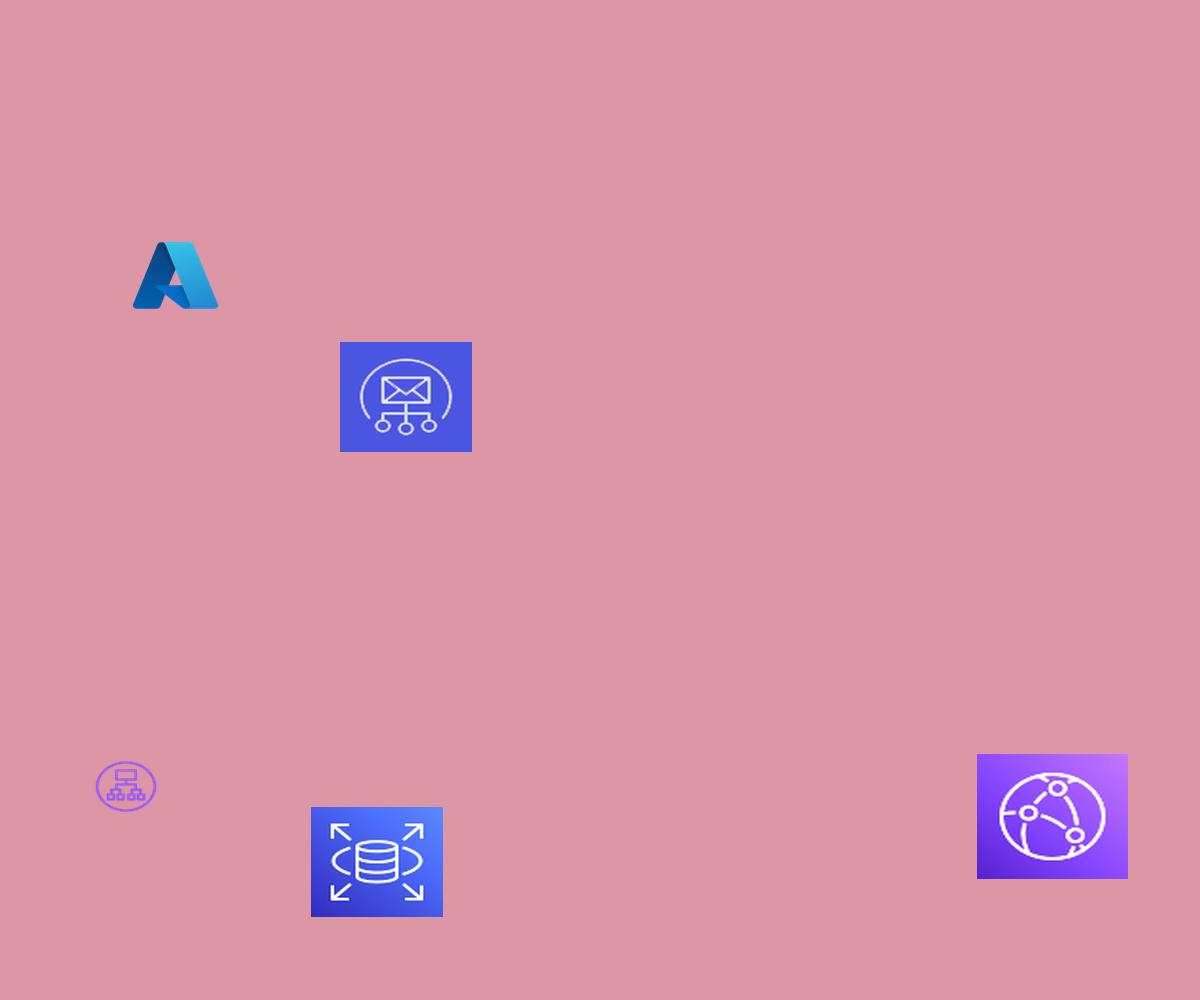AWS-CloudFront: (977, 754, 1128, 879)
AWS-RDS: (311, 807, 443, 917)
AWS-Res_Elastic-Load-Balancing_Application-Load-Balancer: (93, 759, 159, 814)
AWS-Simple-Email-Service: (340, 342, 472, 452)
Azure_services: (129, 237, 222, 314)
